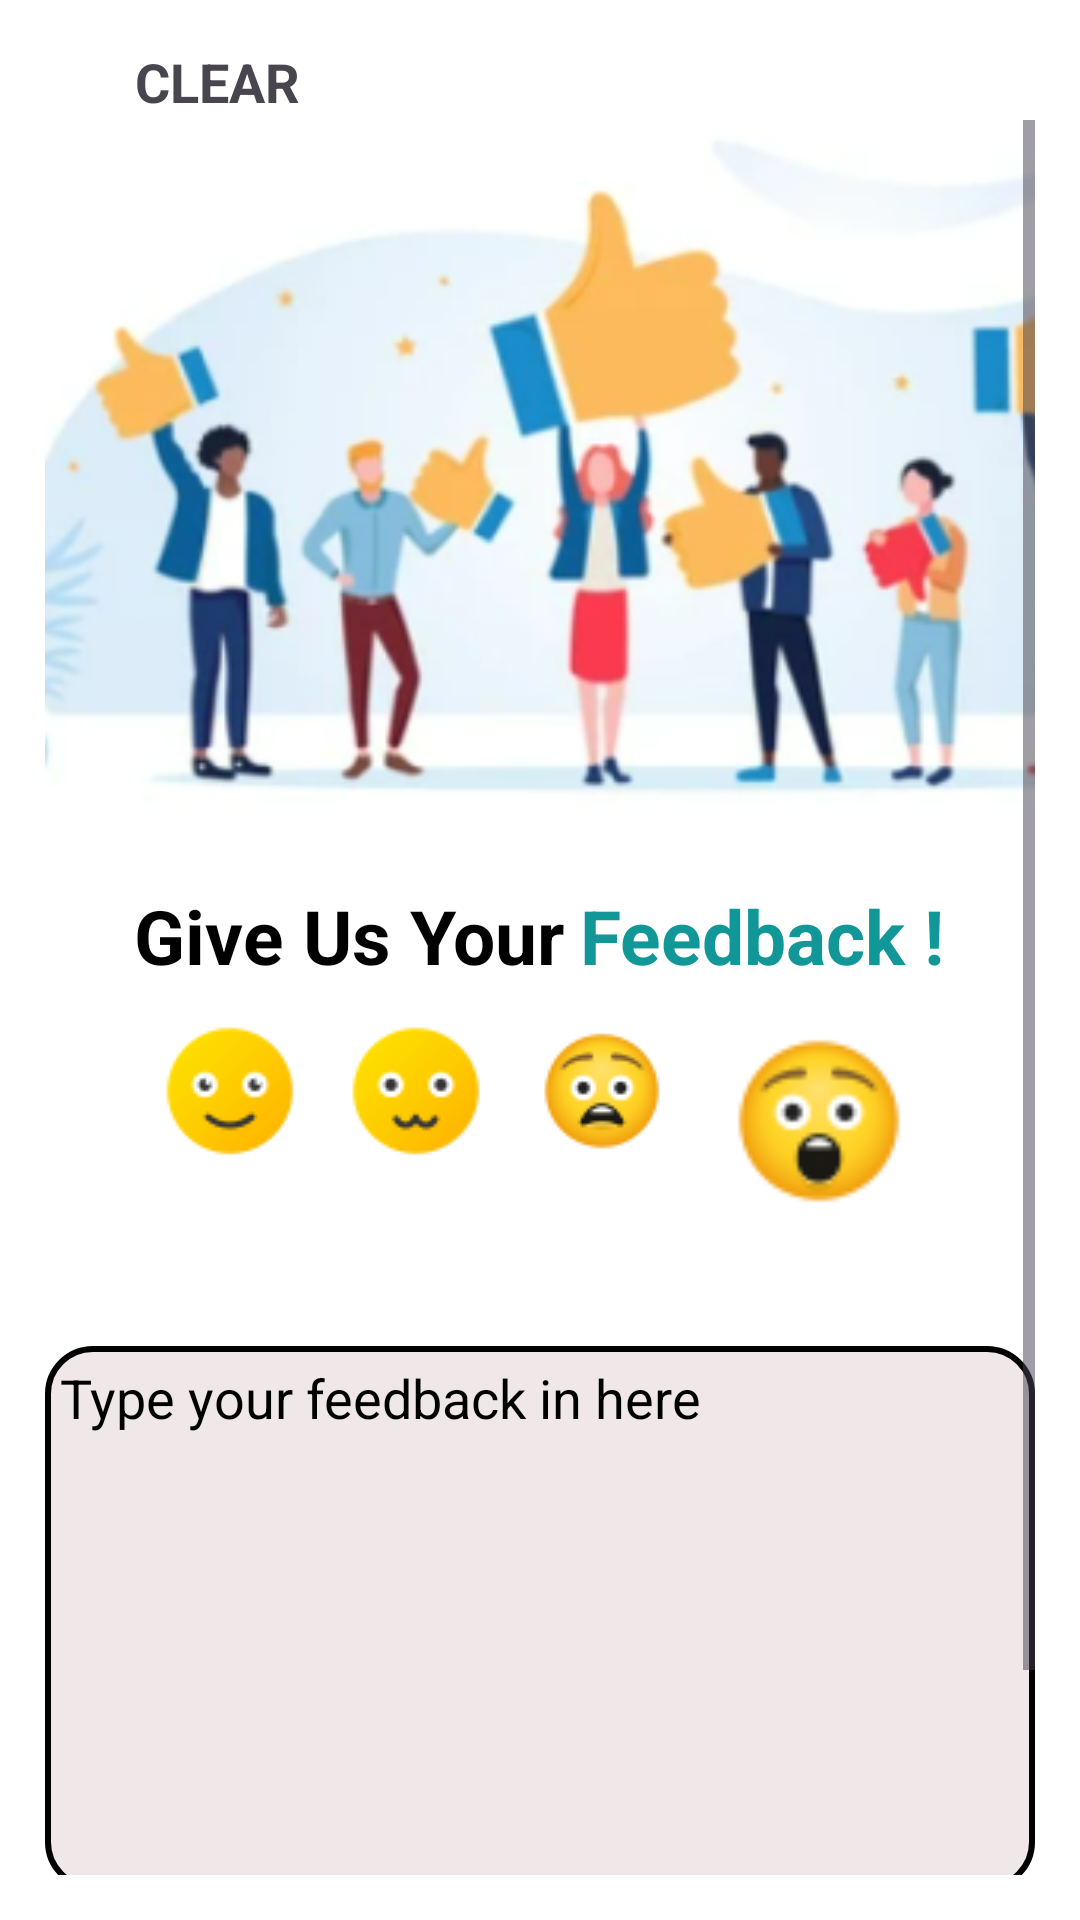

Where to tap for icons on this 1080x1920 app screen, as [x,y]:
emoji: [230,1091], [416,1091], [602,1091], [819,1121]
